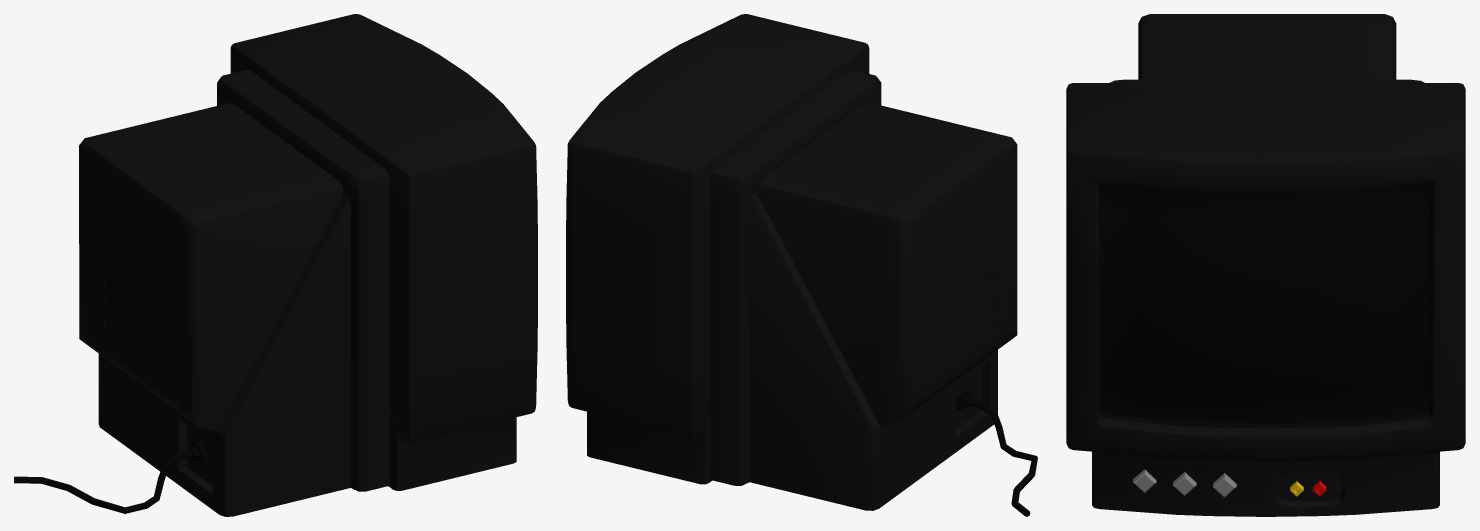
The model's file is TV_CRT_01.glb.
The picture shows the model from 3 angles, left to right: view 1: azimuth 30°, elevation 25°; view 2: azimuth 150°, elevation 25°; view 3: azimuth 270°, elevation 25°; orthographic projection. The views are drawn at different scales.
Visible parts, largest first — view 1: Mesh_TV_CRT_01; view 2: Mesh_TV_CRT_01; view 3: Mesh_TV_CRT_01.
Part boxes in pixels (x1,y1,x2,y2): Mesh_TV_CRT_01: [14, 14, 537, 516]; Mesh_TV_CRT_01: [566, 14, 1037, 516]; Mesh_TV_CRT_01: [1066, 14, 1465, 516].
Size of the model in its own units: 0.8298 by 0.6027 by 0.6.
1 material, 1 textured.
